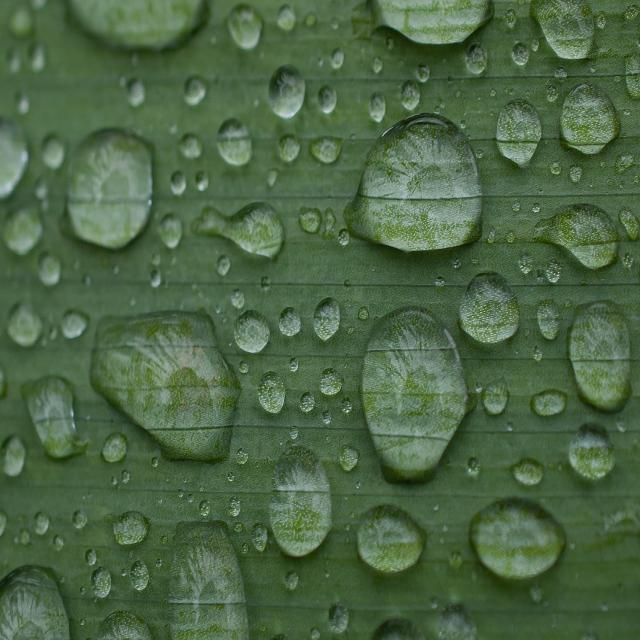raindrop: (85, 295, 249, 479), (358, 292, 476, 492), (352, 113, 484, 255), (163, 506, 284, 640), (458, 477, 578, 588), (64, 120, 154, 258), (562, 284, 639, 422), (18, 346, 86, 489), (185, 192, 289, 274), (268, 438, 331, 573), (0, 546, 85, 640), (530, 194, 626, 276), (557, 69, 631, 175), (453, 256, 528, 344), (353, 506, 433, 584), (490, 94, 546, 170), (556, 423, 624, 485), (225, 292, 279, 368), (264, 51, 310, 127), (210, 109, 257, 181), (529, 380, 583, 436), (102, 500, 154, 558), (306, 288, 348, 358), (252, 358, 292, 429), (478, 368, 514, 428)
